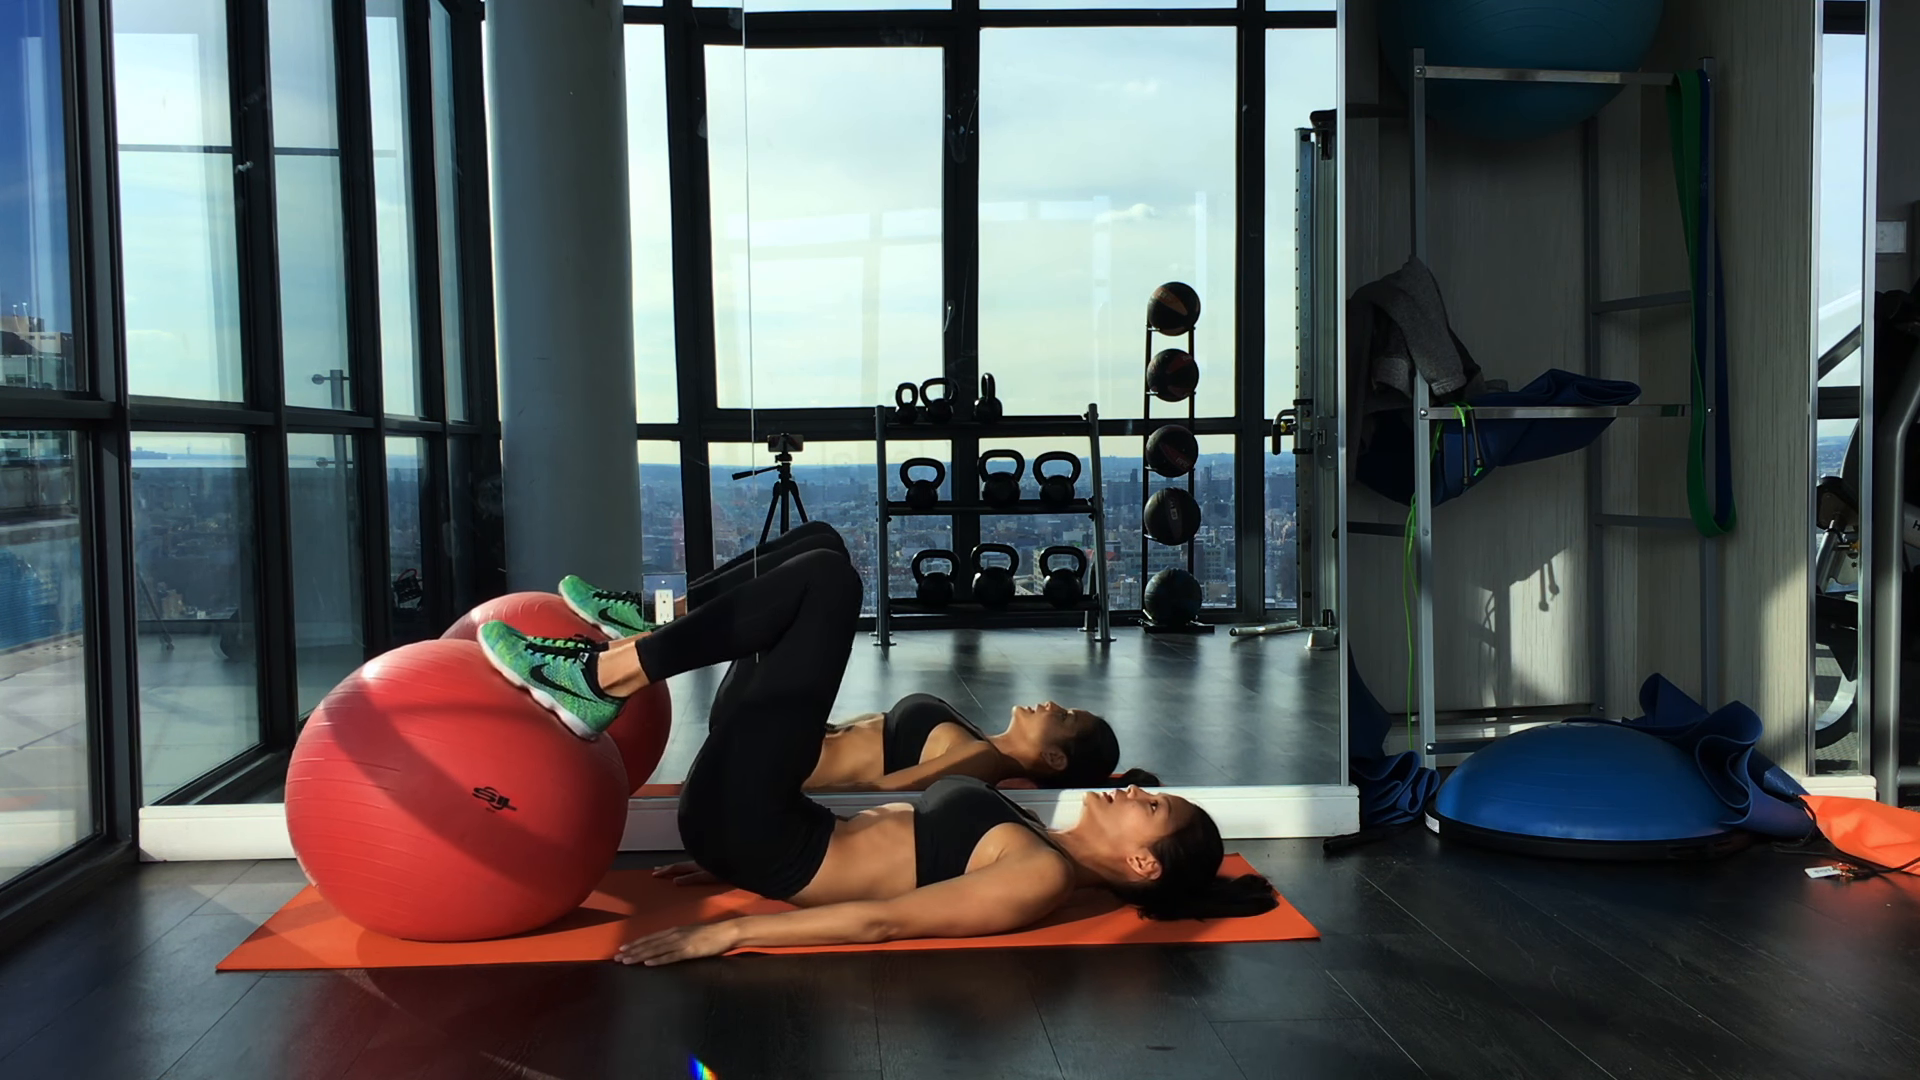yogaball: (278, 630, 633, 949)
